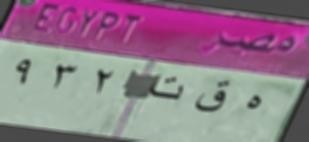2: (91, 62, 115, 99)
3: (49, 59, 81, 96)
9: (12, 54, 38, 94)
haa: (243, 84, 263, 122)
qaaf: (193, 77, 233, 120)
taa: (149, 74, 190, 103)
